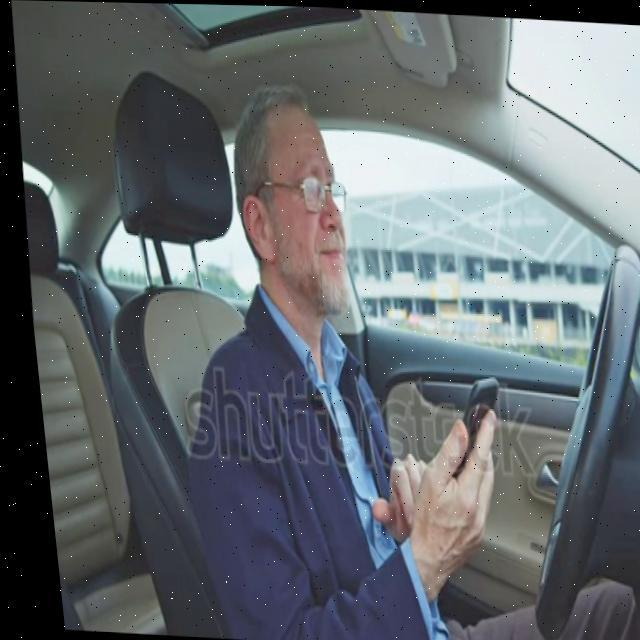PhoneCall: (440, 366, 496, 466)
